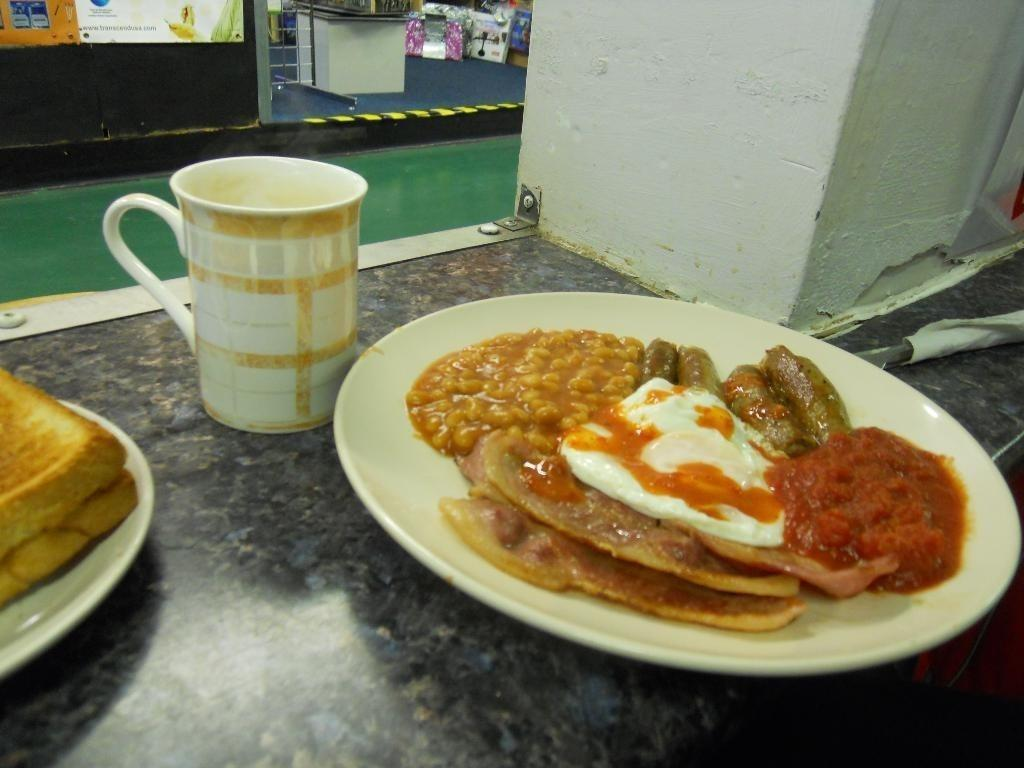cup-handle: (101, 152, 370, 437)
